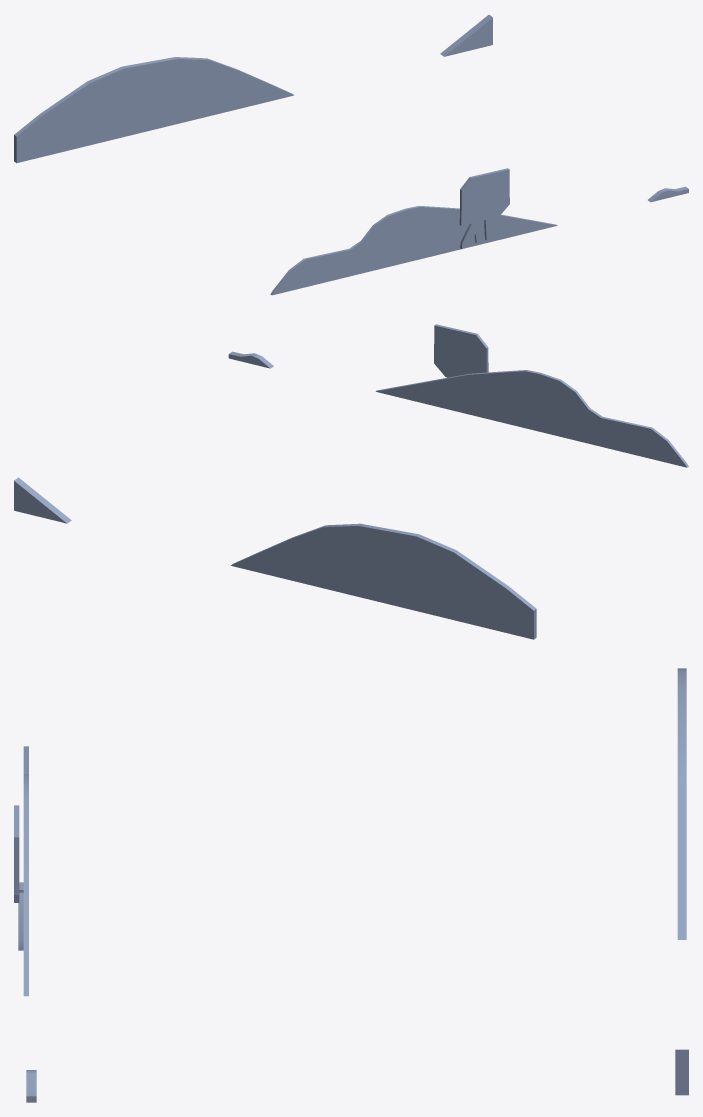
The model's file is frame_0078.glb.
3 renders of one model, top to bottom at view 1: azimuth 30°, elevation 25°; view 2: azimuth 150°, elevation 25°; view 3: azimuth 270°, elevation 25°, orthographic. The views are drawn at different scales.
Parts seen in each view (by area): view 1: export_trees_001.002; view 2: export_trees_001.002; view 3: export_trees_001.002.
Part boxes in pixels (x1,y1,x2,y2): export_trees_001.002: (14,15,688,295); export_trees_001.002: (14,324,688,639); export_trees_001.002: (14,668,688,1102).
Size of the model in its own units: 0.4327 by 0.0622 by 0.321.
